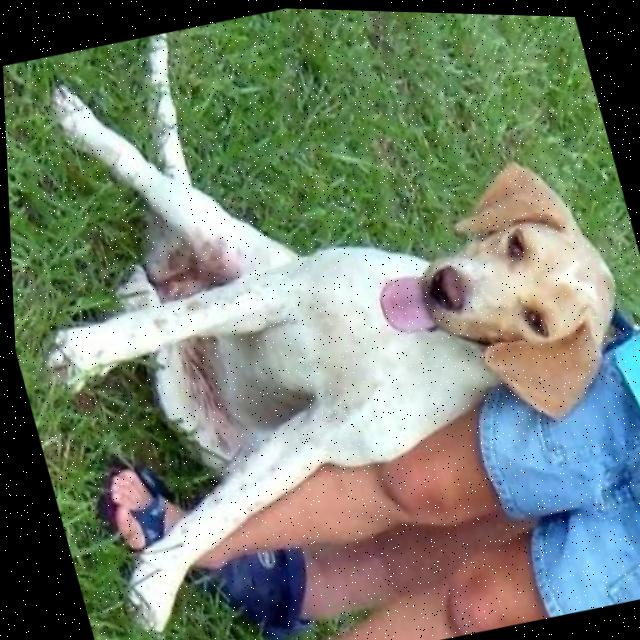dogs: (0, 0, 640, 625)
